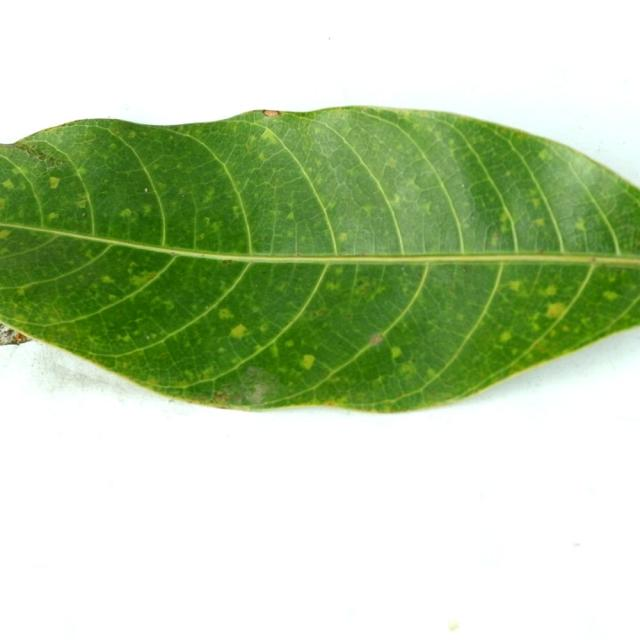Mango: (0, 107, 639, 412)
Powdery_Mildew: (358, 358, 384, 381), (413, 170, 438, 190), (296, 349, 321, 368), (546, 302, 566, 318), (259, 126, 279, 142), (404, 176, 422, 193), (129, 273, 150, 287), (229, 324, 248, 339), (399, 362, 416, 377), (506, 280, 523, 292), (310, 308, 328, 319), (202, 186, 215, 201), (602, 290, 619, 301), (369, 333, 383, 346), (542, 284, 557, 296), (218, 308, 233, 320), (13, 316, 31, 326), (420, 201, 433, 214), (200, 365, 214, 377), (390, 346, 402, 359), (499, 330, 512, 342), (499, 210, 511, 223), (361, 204, 375, 215), (48, 176, 60, 188), (575, 220, 587, 232), (390, 193, 402, 205), (269, 344, 279, 358), (325, 281, 339, 291), (533, 217, 545, 228), (2, 179, 14, 190), (141, 204, 153, 215), (210, 221, 222, 232), (119, 208, 132, 218), (253, 344, 265, 354), (15, 286, 27, 296), (385, 157, 397, 167), (101, 275, 114, 284), (258, 323, 269, 333), (531, 197, 541, 208), (426, 367, 437, 377), (490, 235, 500, 246), (156, 180, 167, 190), (162, 301, 174, 310), (0, 198, 8, 211), (285, 211, 295, 221), (538, 150, 548, 160), (47, 212, 58, 221), (0, 230, 11, 239), (76, 199, 87, 208), (11, 167, 22, 176), (338, 232, 347, 242), (232, 205, 241, 215), (257, 151, 266, 161), (608, 274, 618, 283), (531, 322, 540, 331), (78, 167, 87, 176), (581, 318, 590, 327), (284, 339, 294, 347), (122, 335, 132, 343), (221, 259, 234, 265), (327, 202, 336, 210), (299, 235, 307, 244), (98, 190, 108, 197), (203, 217, 211, 225), (128, 130, 136, 138), (251, 305, 259, 313), (286, 230, 293, 238), (590, 256, 598, 263), (493, 231, 500, 238), (218, 347, 225, 353)
